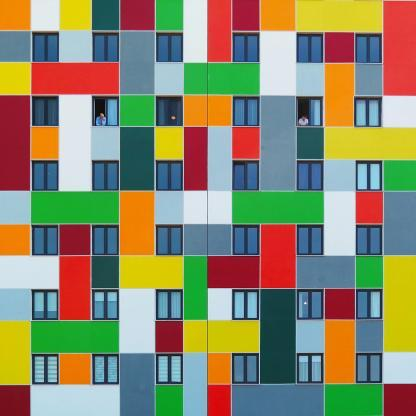Building Outline: (0, 0, 416, 416)
Facade: (0, 0, 416, 416)
Floor: (0, 0, 415, 81), (0, 86, 415, 148), (0, 346, 415, 407), (0, 281, 415, 341), (0, 217, 415, 276), (0, 153, 415, 212)
Floor Slab: (0, 81, 415, 86), (0, 148, 415, 153), (0, 212, 415, 217), (0, 277, 415, 282), (0, 341, 415, 346), (0, 407, 415, 412)
Window: (354, 96, 382, 127), (355, 288, 383, 319), (31, 31, 59, 62), (31, 95, 59, 126), (31, 160, 59, 191), (31, 289, 59, 320), (92, 31, 120, 62), (92, 95, 120, 126), (232, 353, 260, 384), (232, 224, 260, 255), (232, 289, 260, 320), (355, 353, 383, 383), (355, 160, 383, 190), (31, 354, 59, 384), (31, 225, 59, 255), (155, 354, 183, 384), (155, 161, 183, 191), (155, 225, 183, 255), (155, 290, 183, 320), (232, 160, 260, 190), (296, 353, 324, 383), (296, 160, 324, 190), (296, 224, 324, 254), (296, 289, 324, 319), (355, 32, 382, 63), (356, 224, 383, 255), (92, 160, 119, 191), (92, 289, 119, 320), (233, 95, 260, 126), (297, 32, 324, 63), (297, 96, 324, 127), (92, 354, 119, 384), (92, 225, 119, 255), (156, 32, 183, 62), (156, 96, 183, 126), (233, 31, 260, 61)
